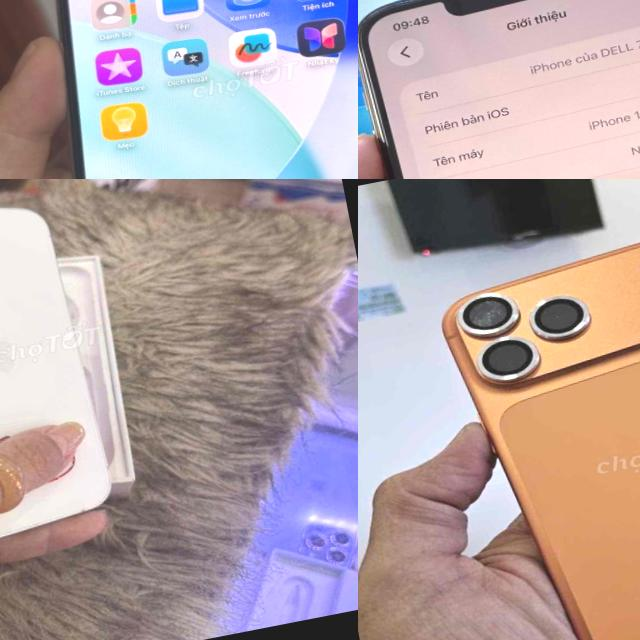scratch: (458, 286, 531, 346)
